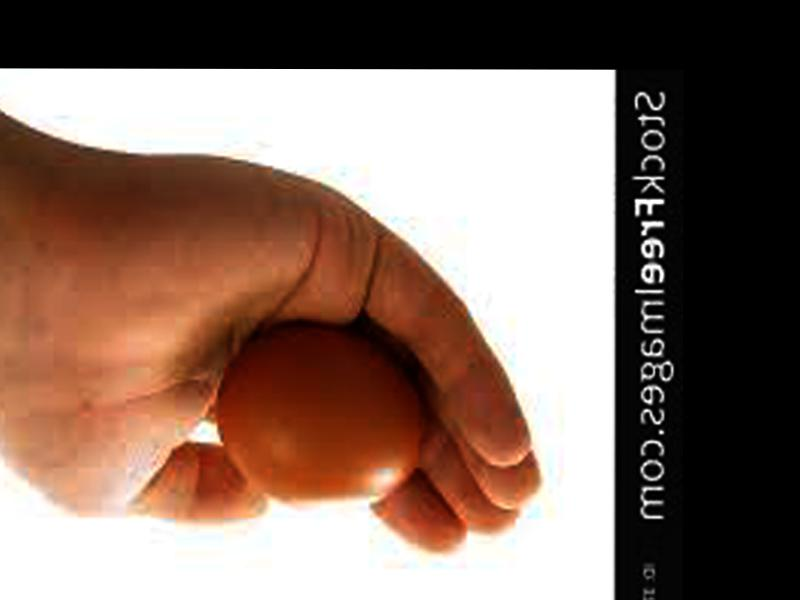Eggs: (214, 329, 440, 505)
